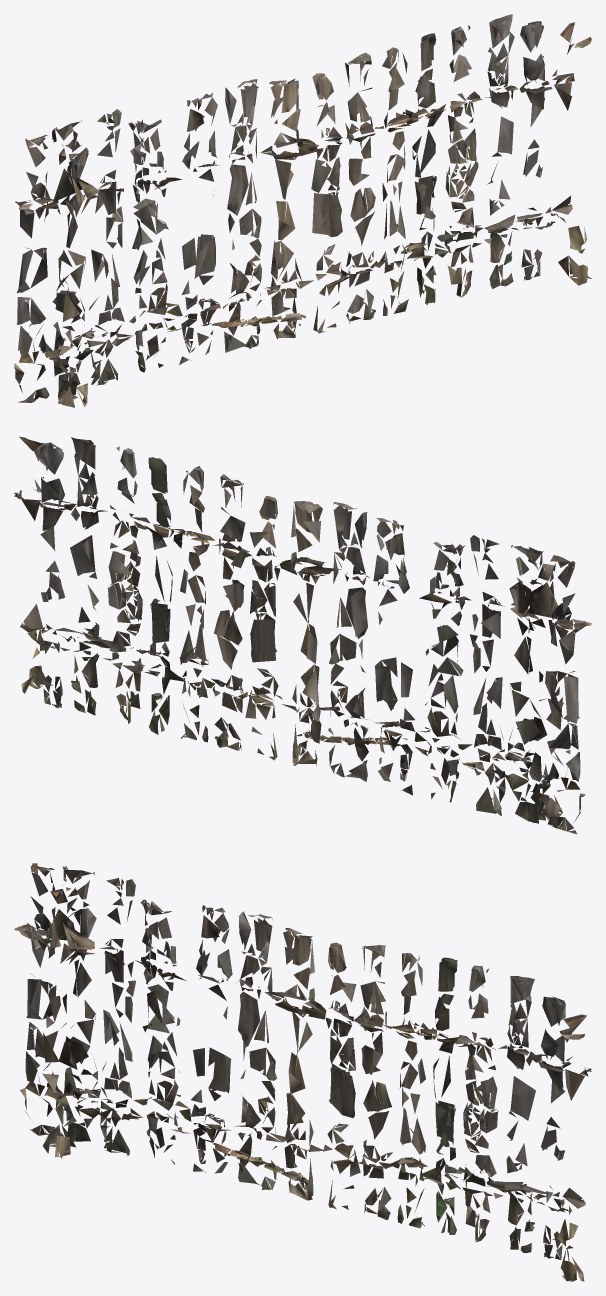
File: fence-a.glb
3 views of the same model, one above another, from view 1: azimuth 30°, elevation 25°; view 2: azimuth 150°, elevation 25°; view 3: azimuth 330°, elevation 25° (orthographic). The views are drawn at different scales.
Visible parts, largest first — view 1: Mesh_0; view 2: Mesh_0; view 3: Mesh_0.
Part boxes in pixels (left/top/right/bottom): Mesh_0: left=14, top=14, right=591, bottom=407; Mesh_0: left=14, top=436, right=591, bottom=834; Mesh_0: left=14, top=863, right=591, bottom=1281.
Bounding box in the file's own units: 3 × 1.38 × 0.2178.
1 material, 1 textured.
